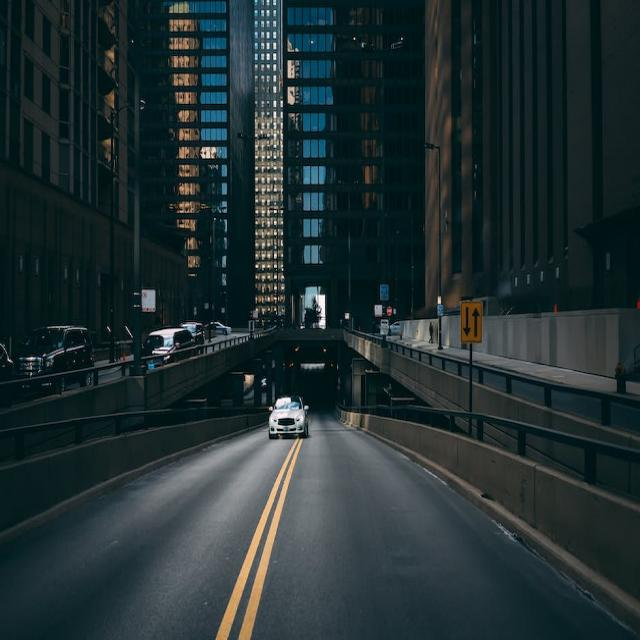no entry: (387, 306, 392, 316)
